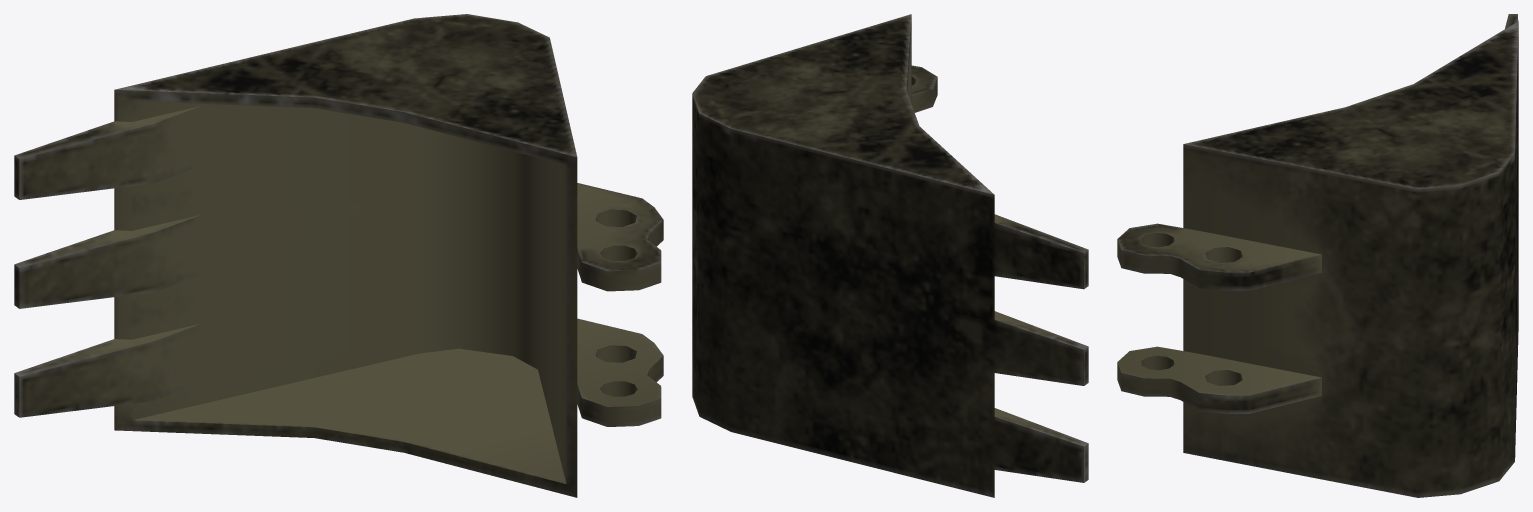
The model's file is bucket.obj.
3 views of the same model, side by side, from view 1: azimuth 30°, elevation 25°; view 2: azimuth 150°, elevation 25°; view 3: azimuth 270°, elevation 25° (orthographic). The views are drawn at different scales.
Visible parts, largest first — view 1: Shovel.001; view 2: Shovel.001; view 3: Shovel.001.
Part boxes in pixels (bbox=[...]): Shovel.001: bbox=[14, 14, 663, 497]; Shovel.001: bbox=[692, 14, 1088, 497]; Shovel.001: bbox=[1117, 14, 1518, 497].
Bounding box in the file's own units: 0.7062 × 0.4785 × 0.5634.
1 material, 1 textured.
